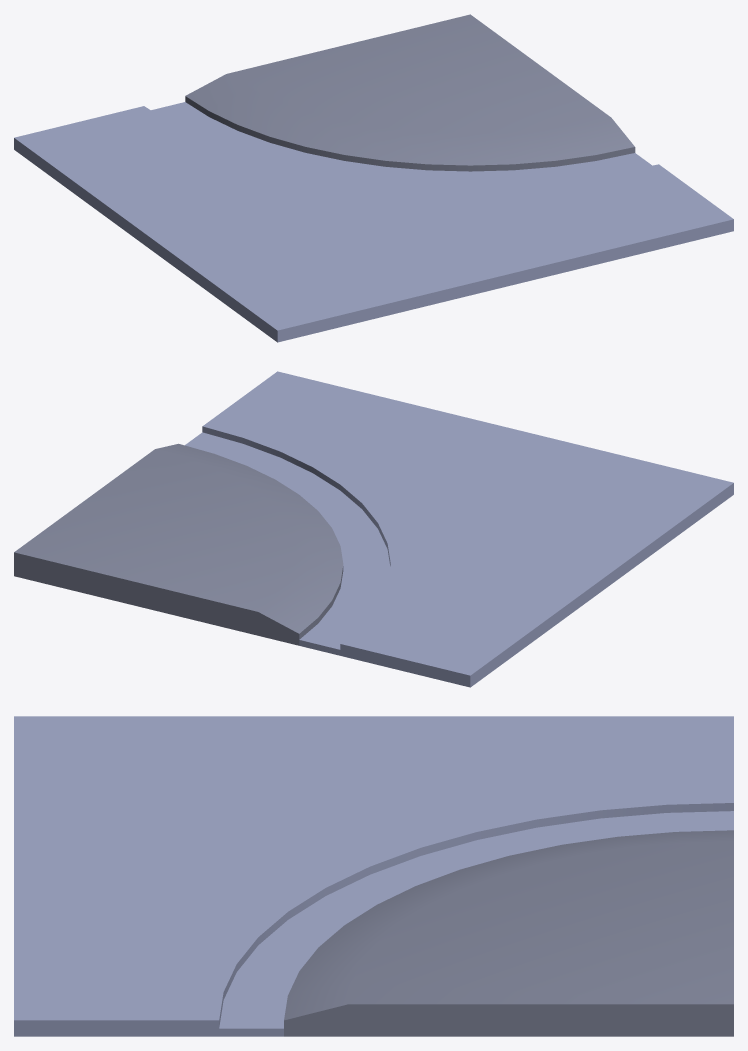
Rendered from road-corner.glb.
3 renders of one model, top to bottom at view 1: azimuth 30°, elevation 25°; view 2: azimuth 150°, elevation 25°; view 3: azimuth 270°, elevation 25°, orthographic. The views are drawn at different scales.
Visible parts, largest first — view 1: road-corner; view 2: road-corner; view 3: road-corner.
Part boxes in pixels (<box>): road-corner: <box>14,14,733,342</box>; road-corner: <box>14,371,733,687</box>; road-corner: <box>14,716,733,1036</box>.
Size of the model in its own units: 1 by 0.05 by 1.
1 material, 1 textured.
